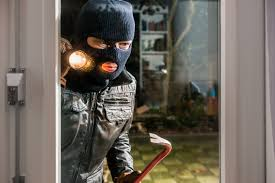crowbar: (116, 131, 174, 183)
